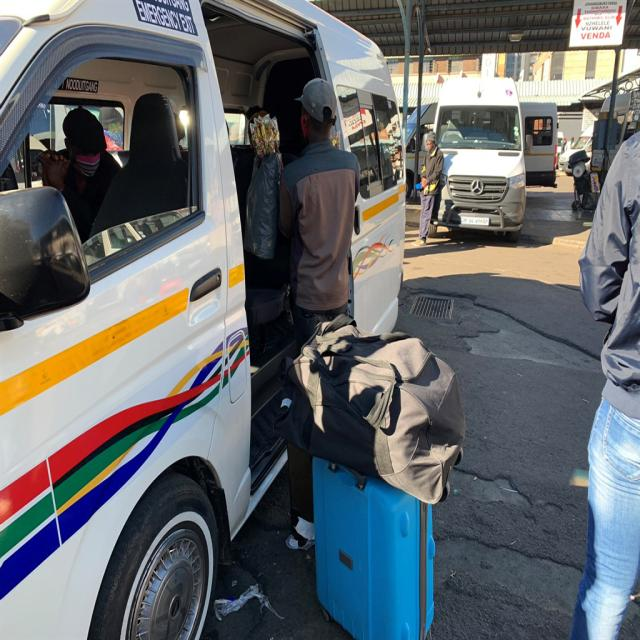MiniBus taxi: (430, 74, 529, 248)
